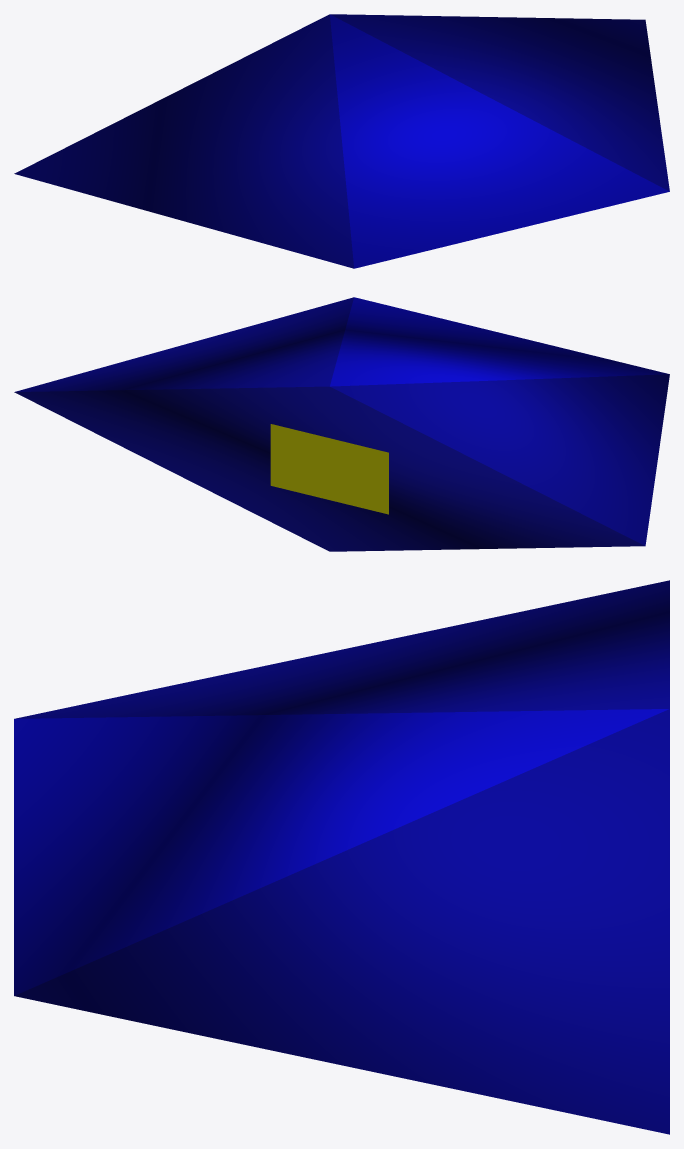
Rendered from sidewinder.fbx.
3 renders of one model, top to bottom at view 1: azimuth 30°, elevation 25°; view 2: azimuth 150°, elevation 25°; view 3: azimuth 270°, elevation 25°, orthographic. The views are drawn at different scales.
Visible parts, largest first — view 1: sidewind; view 2: sidewind; view 3: sidewind.
Part boxes in pixels (bbox=[...]): sidewind: bbox=[14, 14, 669, 268]; sidewind: bbox=[14, 297, 669, 551]; sidewind: bbox=[14, 580, 669, 1134].
Size of the model in its own units: 1.28 by 0.32 by 0.6401.
